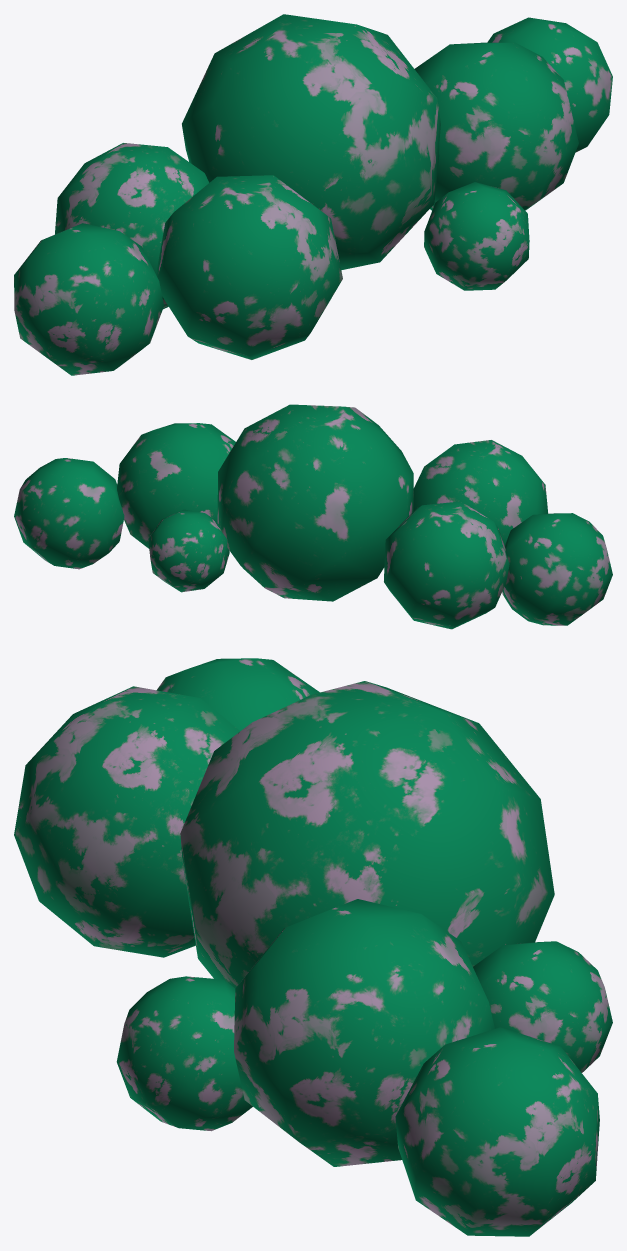
The model's file is elongatedSeaPearl00.fbx.
3 views of the same model, one above another, from view 1: azimuth 30°, elevation 25°; view 2: azimuth 150°, elevation 25°; view 3: azimuth 270°, elevation 25° (orthographic). The views are drawn at different scales.
Visible parts, largest first — view 1: elongatedSeaPearl00; view 2: elongatedSeaPearl00; view 3: elongatedSeaPearl00.
Boxes of the visible parts, x1,y1,x2,y2 form: elongatedSeaPearl00: [14, 14, 612, 375]; elongatedSeaPearl00: [14, 404, 612, 629]; elongatedSeaPearl00: [14, 658, 612, 1236].
Bounding box in the file's own units: 0.4888 × 0.1669 × 0.2619.
1 material, 1 textured.
